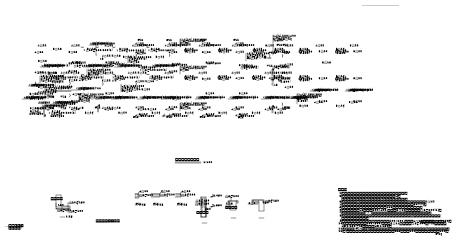room: (59, 20, 74, 26), (227, 10, 232, 21), (287, 25, 298, 29), (169, 32, 180, 35)
staircase: (105, 6, 109, 8)
wall: (150, 31, 155, 35), (169, 33, 179, 35), (197, 32, 203, 35), (38, 179, 41, 181), (73, 168, 76, 170), (81, 177, 84, 179), (73, 176, 76, 178), (82, 149, 85, 151), (107, 139, 110, 141), (105, 139, 108, 141), (159, 139, 162, 141), (161, 139, 164, 141), (186, 139, 189, 141), (184, 139, 187, 141), (188, 139, 191, 141), (221, 139, 224, 141), (266, 189, 269, 191), (263, 139, 266, 141), (265, 139, 268, 141), (298, 139, 301, 141), (202, 129, 205, 131), (202, 131, 205, 133), (41, 159, 44, 161), (41, 157, 44, 159), (323, 175, 326, 177), (332, 139, 335, 141), (334, 139, 337, 141), (64, 166, 67, 168), (115, 166, 118, 168), (184, 166, 187, 168), (124, 161, 127, 163), (202, 169, 205, 171), (55, 192, 58, 194), (202, 200, 205, 202), (202, 202, 205, 204), (357, 134, 360, 136), (340, 130, 343, 132), (42, 174, 45, 176), (28, 138, 31, 140), (45, 140, 48, 142), (97, 174, 100, 176), (95, 174, 98, 176), (93, 174, 96, 176), (135, 174, 138, 176), (174, 174, 177, 176), (172, 174, 175, 176), (176, 174, 179, 176), (128, 139, 131, 141), (130, 139, 133, 141), (25, 139, 28, 141), (23, 139, 26, 141), (193, 138, 196, 140), (28, 143, 31, 145), (150, 120, 153, 122), (266, 120, 269, 122), (150, 198, 153, 200), (227, 198, 230, 200), (266, 198, 269, 200), (195, 119, 198, 121), (195, 196, 198, 198), (232, 121, 235, 123), (232, 196, 235, 198), (272, 119, 275, 121), (270, 174, 273, 176), (274, 174, 277, 176), (83, 161, 86, 163), (65, 132, 68, 134), (339, 189, 342, 191), (310, 166, 313, 168), (310, 161, 313, 163), (340, 161, 343, 163), (382, 161, 385, 163), (166, 161, 169, 163), (247, 192, 250, 194), (287, 192, 290, 194), (246, 159, 249, 161), (285, 161, 288, 163), (337, 135, 340, 137), (317, 156, 320, 158), (238, 32, 243, 33), (238, 21, 243, 22), (74, 128, 76, 130), (74, 158, 76, 160), (78, 143, 80, 145), (86, 149, 88, 151), (84, 149, 86, 151), (88, 149, 90, 151), (112, 128, 114, 130), (116, 177, 118, 179), (120, 177, 122, 179), (109, 139, 111, 141), (111, 139, 113, 141), (151, 157, 153, 159), (158, 139, 160, 141), (156, 139, 158, 141), (183, 139, 185, 141), (232, 177, 234, 179), (234, 176, 236, 178), (225, 139, 227, 141), (223, 139, 225, 141), (227, 139, 229, 141), (262, 139, 264, 141), (260, 139, 262, 141), (305, 128, 307, 130), (309, 172, 311, 174), (311, 173, 313, 175), (302, 139, 304, 141), (300, 139, 302, 141), (304, 139, 306, 141), (29, 124, 31, 126), (54, 124, 56, 126), (53, 119, 55, 121), (320, 128, 322, 130), (320, 160, 322, 162), (331, 139, 333, 141), (329, 139, 331, 141), (363, 135, 365, 137), (363, 160, 365, 162), (367, 177, 369, 179), (135, 148, 137, 150), (135, 146, 137, 148), (38, 166, 40, 168), (142, 166, 144, 168), (224, 166, 226, 168), (262, 166, 264, 168), (300, 166, 302, 168), (322, 166, 324, 168), (207, 161, 209, 163), (208, 192, 210, 194), (312, 192, 314, 194), (341, 192, 343, 194), (383, 192, 385, 194), (383, 130, 385, 132), (338, 139, 340, 141), (338, 137, 340, 139), (50, 166, 52, 168), (46, 174, 48, 176), (44, 174, 46, 176), (48, 174, 50, 176), (47, 149, 49, 151), (47, 151, 49, 153), (86, 139, 88, 141), (86, 137, 88, 139), (99, 174, 101, 176), (96, 169, 98, 171), (134, 174, 136, 176), (132, 174, 134, 176), (130, 174, 132, 176), (153, 187, 155, 189), (143, 181, 145, 183), (143, 183, 145, 185), (171, 174, 173, 176), (127, 139, 129, 141), (125, 139, 127, 141), (280, 185, 282, 187), (280, 187, 282, 189), (22, 139, 24, 141), (403, 135, 405, 137), (403, 160, 405, 162), (132, 192, 134, 194), (129, 190, 131, 192), (169, 192, 171, 194), (115, 173, 117, 175), (47, 130, 49, 132), (45, 130, 47, 132), (43, 130, 45, 132), (310, 206, 312, 208), (95, 192, 97, 194), (398, 134, 400, 136), (155, 121, 157, 123), (157, 119, 159, 121), (228, 120, 230, 122), (155, 196, 157, 198), (157, 196, 159, 198), (189, 198, 191, 200), (311, 153, 313, 155), (194, 121, 196, 123), (194, 196, 196, 198), (234, 119, 236, 121), (234, 196, 236, 198), (271, 121, 273, 123), (271, 196, 273, 198), (273, 196, 275, 198), (156, 169, 158, 171), (96, 164, 98, 166), (382, 189, 384, 191), (382, 159, 384, 161), (55, 161, 57, 163), (208, 189, 210, 191), (247, 189, 249, 191), (287, 189, 289, 191), (208, 159, 210, 161), (246, 161, 248, 163), (286, 159, 288, 161), (340, 158, 342, 160), (382, 158, 384, 160), (402, 147, 404, 149), (362, 147, 364, 149), (336, 139, 338, 141), (66, 150, 68, 152), (310, 201, 312, 203), (307, 160, 309, 162), (54, 174, 56, 176), (38, 151, 41, 152), (31, 153, 34, 154), (33, 153, 36, 154), (73, 189, 76, 190), (77, 178, 80, 179), (79, 174, 82, 175), (189, 129, 192, 130), (189, 168, 192, 169), (189, 189, 192, 190), (266, 129, 269, 130), (266, 161, 269, 162), (270, 144, 273, 145), (76, 127, 79, 128), (153, 127, 156, 128), (185, 127, 188, 128), (223, 127, 226, 128), (300, 127, 303, 128), (53, 121, 56, 122), (92, 123, 95, 124), (169, 123, 172, 124), (285, 123, 288, 124), (202, 128, 205, 129), (202, 133, 205, 134), (41, 161, 44, 162), (41, 163, 44, 164), (323, 151, 326, 152), (358, 148, 361, 149), (360, 148, 363, 149), (169, 163, 172, 164), (310, 163, 313, 164), (202, 171, 205, 172), (202, 173, 205, 174), (76, 196, 79, 197), (262, 196, 265, 197), (323, 196, 326, 197), (202, 199, 205, 200), (202, 197, 205, 198), (59, 134, 62, 135), (57, 134, 60, 135), (61, 134, 64, 135), (76, 136, 79, 137), (98, 198, 101, 199), (136, 184, 139, 185), (400, 148, 403, 149), (38, 134, 41, 135), (28, 122, 31, 123), (193, 176, 196, 177), (272, 172, 275, 173), (311, 191, 314, 192), (340, 191, 343, 192), (382, 191, 385, 192), (339, 160, 342, 161), (169, 160, 172, 161), (126, 160, 129, 161), (87, 160, 90, 161), (58, 160, 61, 161), (29, 123, 32, 124), (154, 173, 157, 174), (246, 191, 249, 192), (286, 191, 289, 192), (286, 163, 289, 164), (55, 157, 58, 158), (34, 144, 36, 145), (34, 167, 36, 168), (34, 189, 36, 190), (30, 153, 32, 154), (28, 153, 30, 154), (112, 158, 114, 159), (112, 185, 114, 186), (116, 144, 118, 145), (118, 176, 120, 177), (151, 129, 153, 130), (151, 189, 153, 190), (228, 129, 230, 130), (228, 160, 230, 161), (228, 189, 230, 190), (232, 144, 234, 145), (276, 173, 278, 174), (305, 161, 307, 162), (305, 189, 307, 190), (38, 128, 40, 129), (262, 127, 264, 128), (315, 127, 317, 128), (29, 128, 31, 129), (51, 123, 53, 124), (131, 123, 133, 124), (208, 123, 210, 124), (247, 123, 249, 124), (312, 123, 314, 124), (320, 189, 322, 190), (363, 190, 365, 191), (367, 148, 369, 149), (357, 148, 359, 149), (355, 148, 357, 149), (135, 150, 137, 151), (135, 152, 137, 153), (127, 163, 129, 164), (208, 163, 210, 164), (341, 163, 343, 164), (383, 163, 385, 164), (38, 196, 40, 197), (115, 196, 117, 197), (147, 196, 149, 197), (185, 196, 187, 197), (224, 196, 226, 197), (301, 196, 303, 197), (359, 196, 361, 197), (399, 196, 401, 197), (338, 141, 340, 142), (338, 143, 340, 144), (56, 134, 58, 135), (38, 146, 40, 147), (30, 140, 32, 141), (47, 148, 49, 149), (47, 146, 49, 147), (86, 141, 88, 142), (86, 143, 88, 144), (96, 166, 98, 167), (96, 168, 98, 169), (110, 182, 112, 183), (174, 184, 176, 185), (143, 180, 145, 181), (280, 184, 282, 185), (280, 182, 282, 183), (403, 190, 405, 191), (399, 148, 401, 149), (397, 148, 399, 149), (395, 148, 397, 149), (34, 128, 36, 129), (316, 158, 318, 159), (115, 127, 117, 128), (310, 203, 312, 204), (310, 205, 312, 206), (102, 198, 104, 199), (100, 198, 102, 199), (91, 191, 93, 192), (189, 121, 191, 122), (158, 172, 160, 173), (195, 175, 197, 176), (88, 163, 90, 164), (58, 163, 60, 164), (311, 189, 313, 190), (143, 178, 145, 179), (40, 134, 42, 135), (54, 157, 56, 158), (207, 191, 209, 192), (247, 163, 249, 164), (340, 188, 342, 189), (382, 188, 384, 189), (166, 191, 168, 192)
